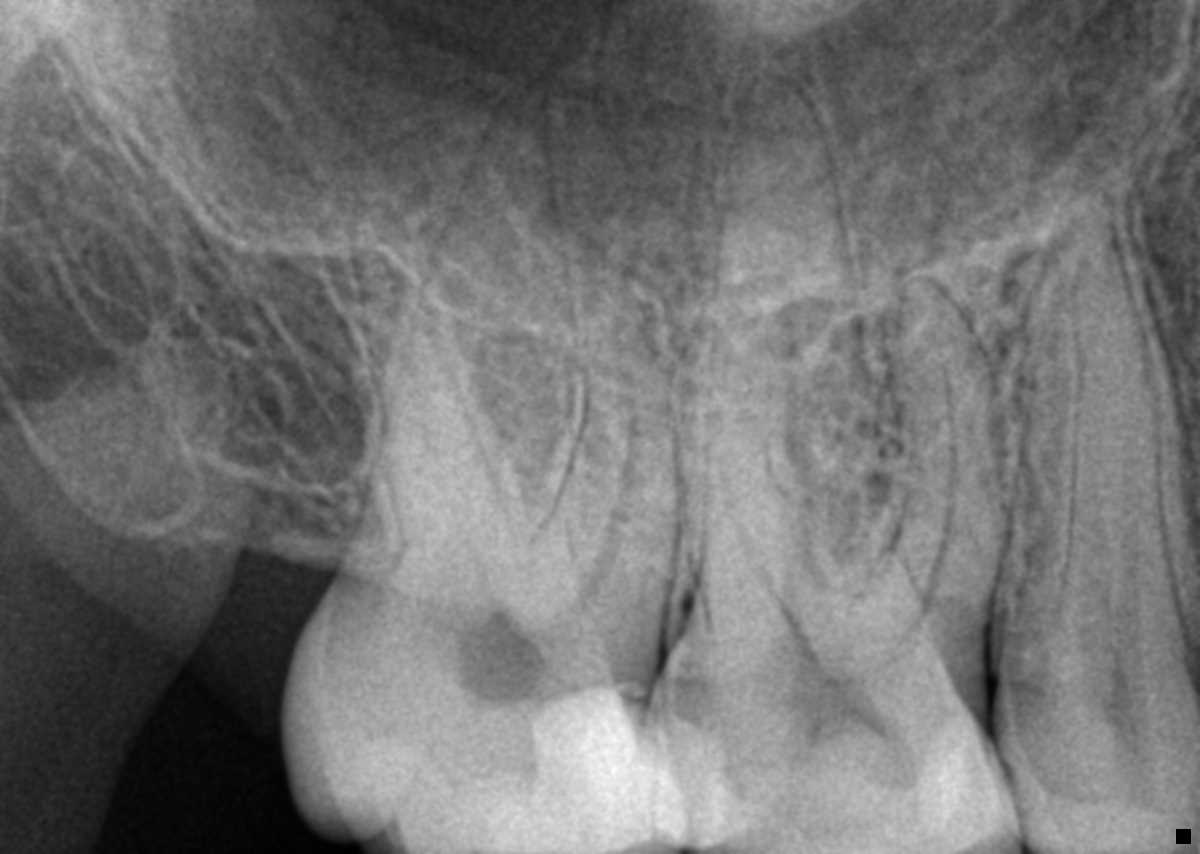Distal Canal: (721, 454, 796, 627), (453, 513, 503, 618)
Distal Root: (350, 194, 512, 559)
Main Root: (1062, 246, 1200, 618)
Mesial Canal: (564, 336, 637, 632), (913, 340, 962, 630)
Mesial Root: (526, 191, 703, 612), (863, 278, 1006, 671)
Palatal Canal: (777, 281, 835, 560)
Palatal Root: (342, 77, 654, 623), (672, 79, 930, 652)
